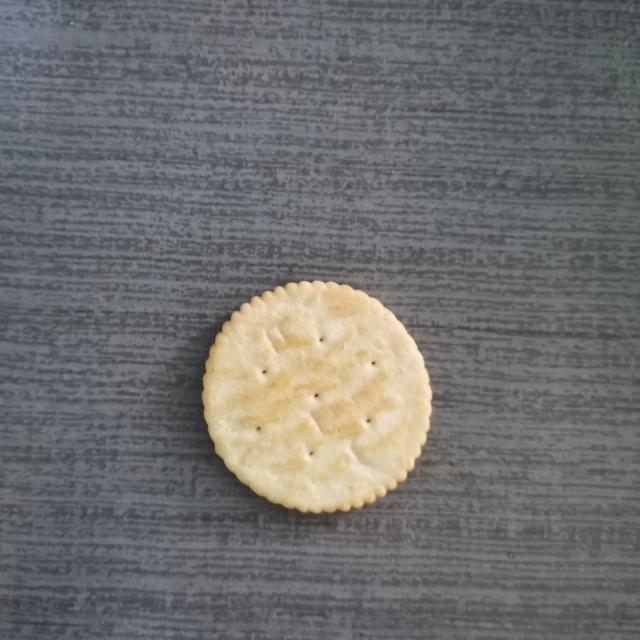Intact: (192, 268, 447, 523)
